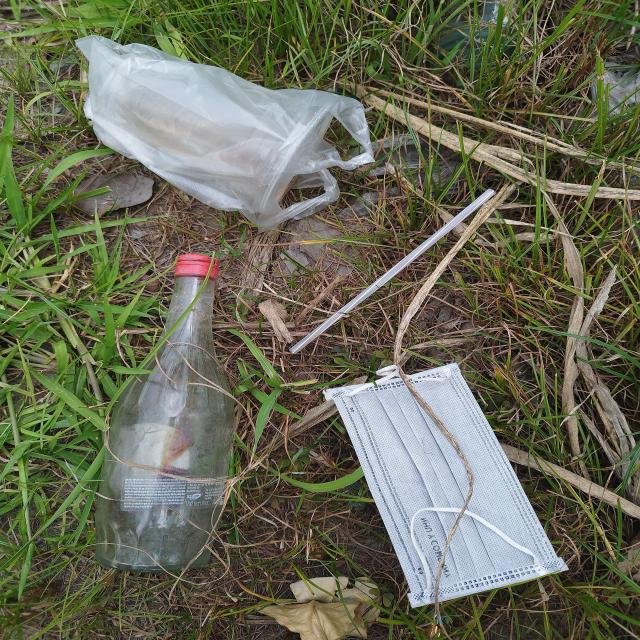bottle: (94, 254, 236, 571)
drinking straw: (289, 188, 496, 354)
mask: (324, 364, 570, 608)
trash bag: (75, 33, 373, 232)
